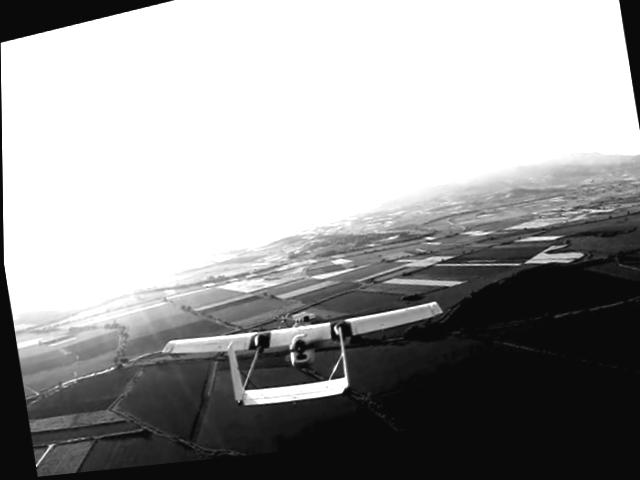hedef: (156, 267, 455, 449)
